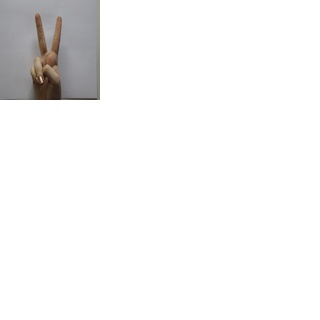scissors: (24, 7, 69, 98)
